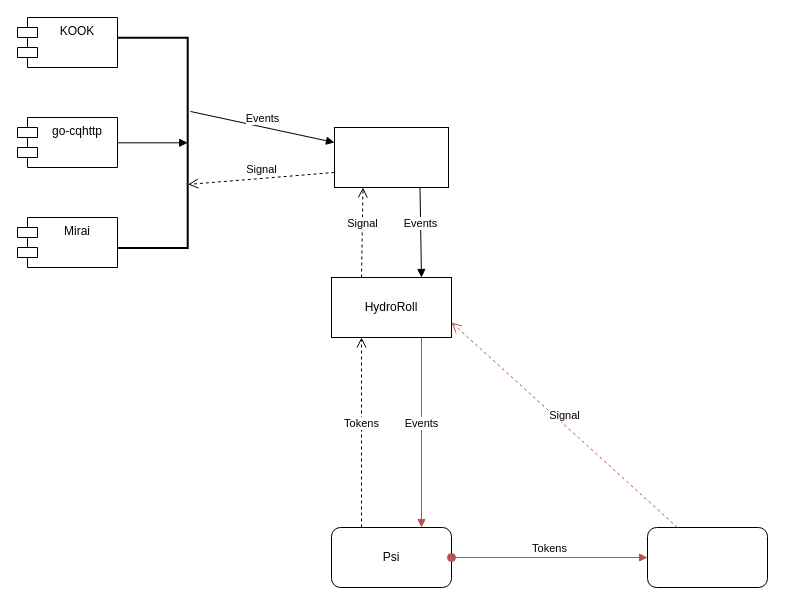
Image size: 785x605. Some labels were removed from this diagram. The centre of each missing label's shape, as x and y in pixels:
HydroRollCore: point 707,557
iamai: point 391,157
